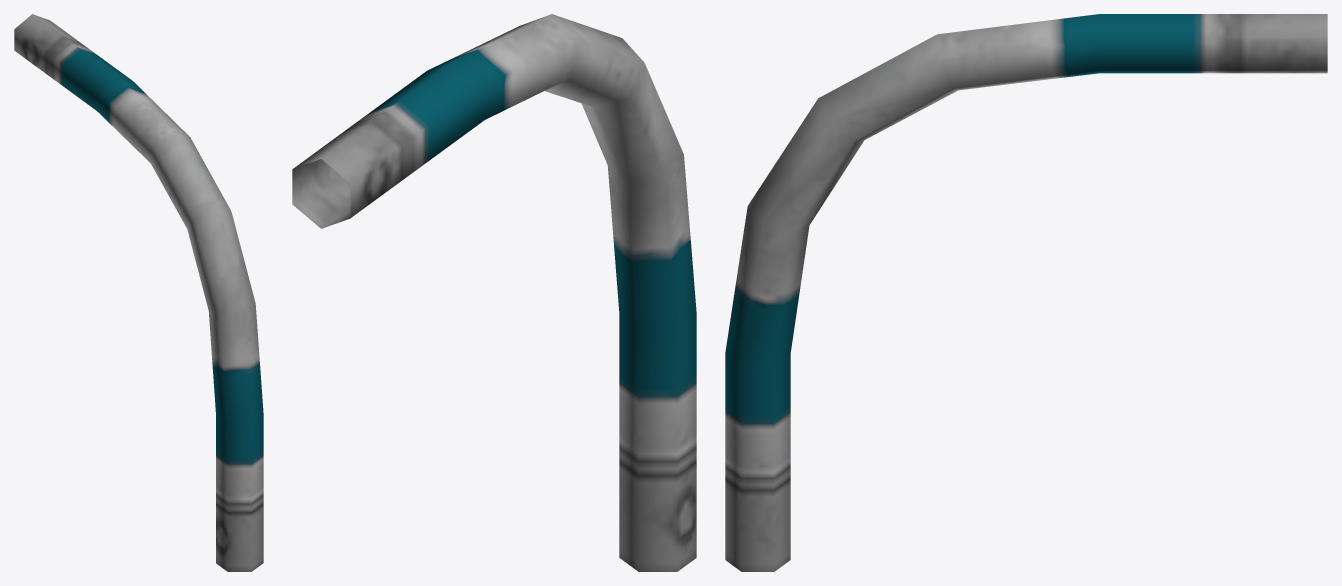
File: CP_Pipe_B_Angle.fbx
3 views of the same model, side by side, from view 1: azimuth 30°, elevation 25°; view 2: azimuth 150°, elevation 25°; view 3: azimuth 270°, elevation 25° (orthographic). The views are drawn at different scales.
Visible parts, largest first — view 1: CP_Pipe_B_Angle; view 2: CP_Pipe_B_Angle; view 3: CP_Pipe_B_Angle.
Part boxes in pixels (x1,y1,x2,y2): CP_Pipe_B_Angle: [14, 14, 263, 571]; CP_Pipe_B_Angle: [292, 14, 696, 571]; CP_Pipe_B_Angle: [725, 14, 1327, 571].
Bounding box in the file's own units: 4.97 × 52.87 × 52.87.
